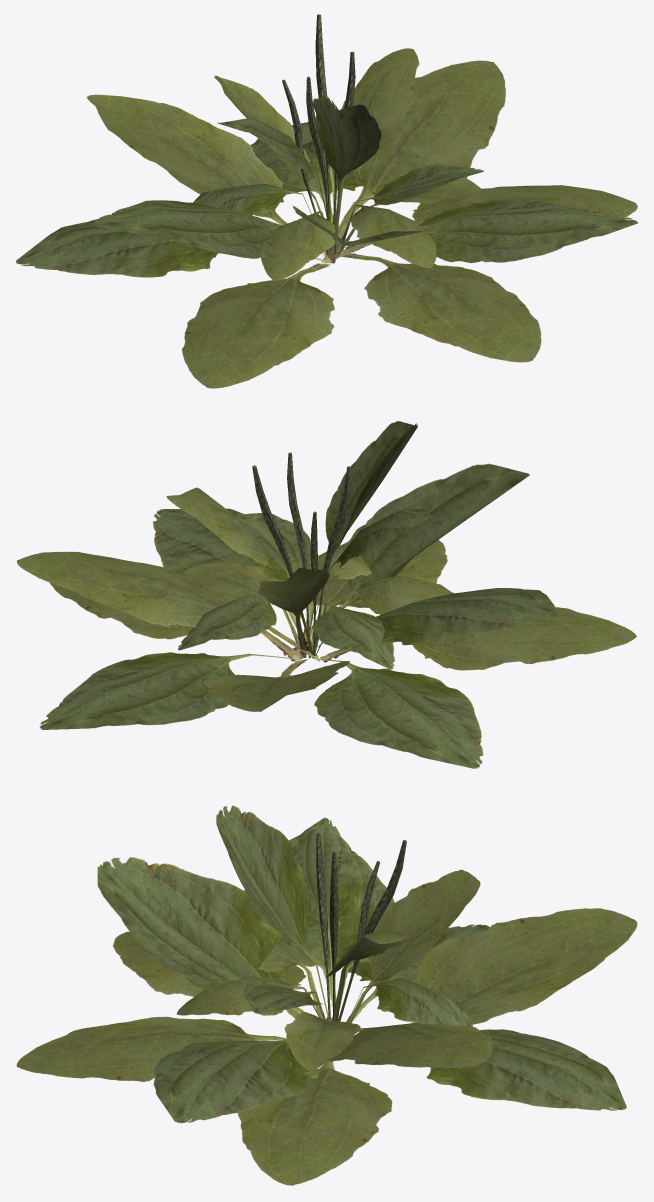
3 views of the same model, one above another, from view 1: azimuth 30°, elevation 25°; view 2: azimuth 150°, elevation 25°; view 3: azimuth 270°, elevation 25° (orthographic). The views are drawn at different scales.
Parts seen in each view (by area): view 1: Plantain_02 - Default_0, Plantain_01 - Default_0, Plantain_Material #51_0; view 2: Plantain_01 - Default_0, Plantain_02 - Default_0, Plantain_Material #51_0; view 3: Plantain_02 - Default_0, Plantain_01 - Default_0, Plantain_Material #51_0.
Part boxes in pixels (x1=…): Plantain_02 - Default_0: x1=86, y1=48, x2=637, y2=388; Plantain_01 - Default_0: x1=16, y1=95, x2=637, y2=277; Plantain_Material #51_0: x1=282, y1=14, x2=355, y2=198; Plantain_01 - Default_0: x1=39, y1=421, x2=559, y2=768; Plantain_02 - Default_0: x1=17, y1=487, x2=636, y2=711; Plantain_Material #51_0: x1=252, y1=452, x2=350, y2=609; Plantain_02 - Default_0: x1=16, y1=869, x2=637, y2=1185; Plantain_01 - Default_0: x1=97, y1=805, x2=626, y2=1123; Plantain_Material #51_0: x1=316, y1=832, x2=406, y2=977.
Size of the model in its own units: 141 by 56.07 by 142.
4 materials, 4 textured.
